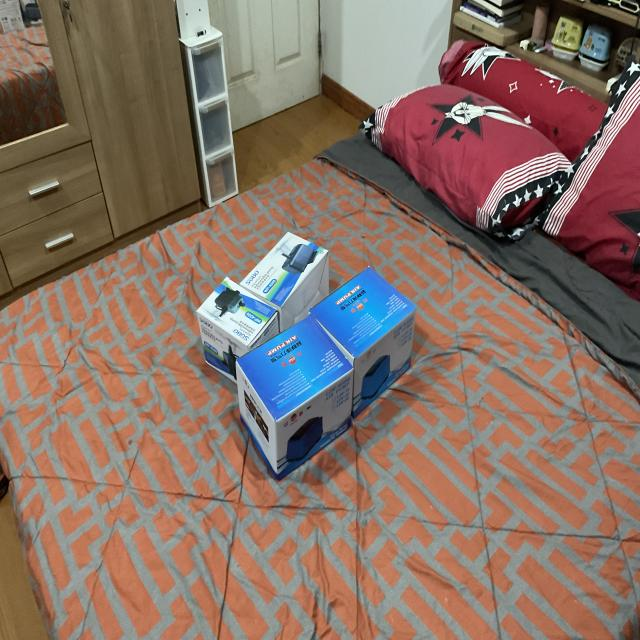SOBO_WP_4200: (234, 200, 340, 326), (192, 258, 274, 378)
YAMANO_LPP_20: (240, 304, 364, 486), (317, 258, 445, 416)
